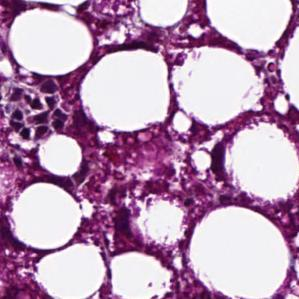inflammation: (3, 80, 68, 141)
